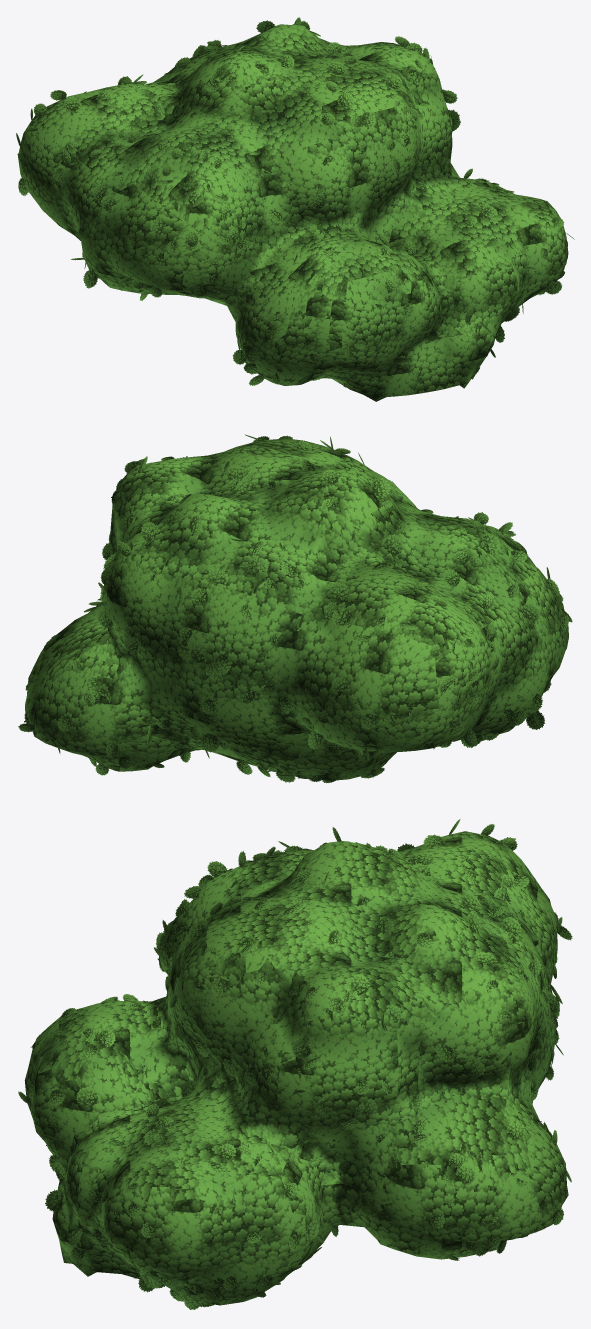
Rendered from ballbush_small.glb.
3 views of the same model, one above another, from view 1: azimuth 30°, elevation 25°; view 2: azimuth 150°, elevation 25°; view 3: azimuth 270°, elevation 25° (orthographic). The views are drawn at different scales.
Visible parts, largest first — view 1: ballbush_small_volume_LOD0, ballbush_small_leaves_LOD0; view 2: ballbush_small_volume_LOD0, ballbush_small_leaves_LOD0; view 3: ballbush_small_volume_LOD0, ballbush_small_leaves_LOD0.
Part boxes in pixels (<box>): ballbush_small_volume_LOD0: <box>18,24,568,401</box>; ballbush_small_leaves_LOD0: <box>16,17,574,387</box>; ballbush_small_volume_LOD0: <box>25,439,568,780</box>; ballbush_small_leaves_LOD0: <box>18,434,572,783</box>; ballbush_small_volume_LOD0: <box>24,831,568,1305</box>; ballbush_small_leaves_LOD0: <box>18,819,572,1309</box>.
Size of what is drawn, in the model's own units: 1.24 by 0.8129 by 1.12.
Materials: 2 (2 with a texture image).
